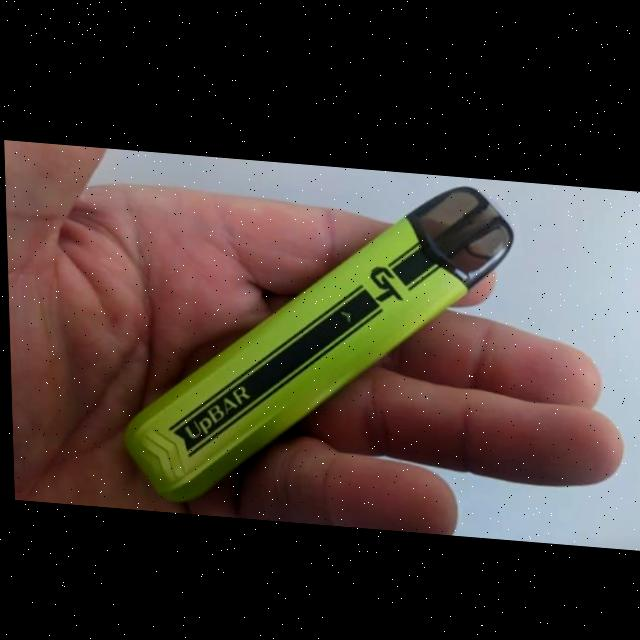vape: (114, 152, 518, 523)
